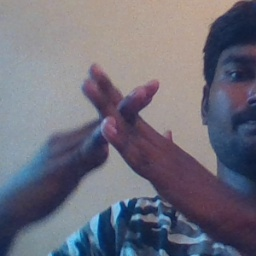W: (58, 55, 185, 195)
